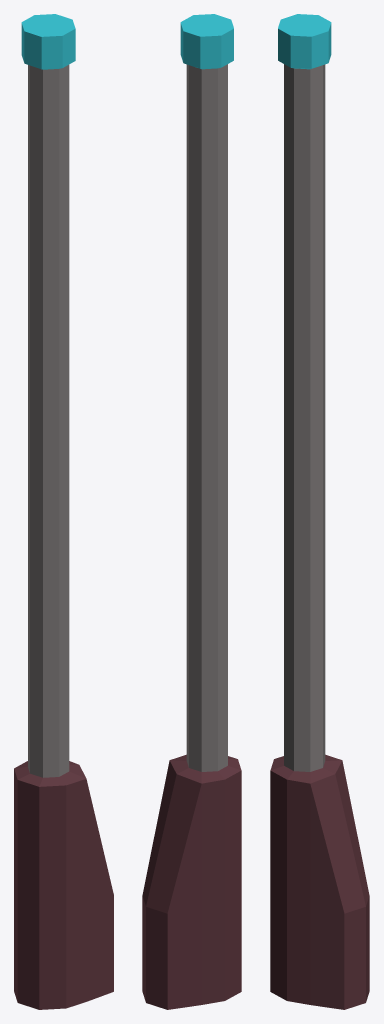
Rendered from scifi-lamp-high.fbx.
3 views of the same model, side by side, from view 1: azimuth 30°, elevation 25°; view 2: azimuth 210°, elevation 25°; view 3: azimuth 330°, elevation 25° (orthographic).
Visible parts, largest first — view 1: scifi-lamp-high; view 2: scifi-lamp-high; view 3: scifi-lamp-high.
Part boxes in pixels (left/top/right/bottom): scifi-lamp-high: left=14, top=14, right=113, bottom=1009; scifi-lamp-high: left=142, top=14, right=241, bottom=1009; scifi-lamp-high: left=270, top=14, right=369, bottom=1009.
Bounding box in the file's own units: 0.3 × 3 × 0.2.
